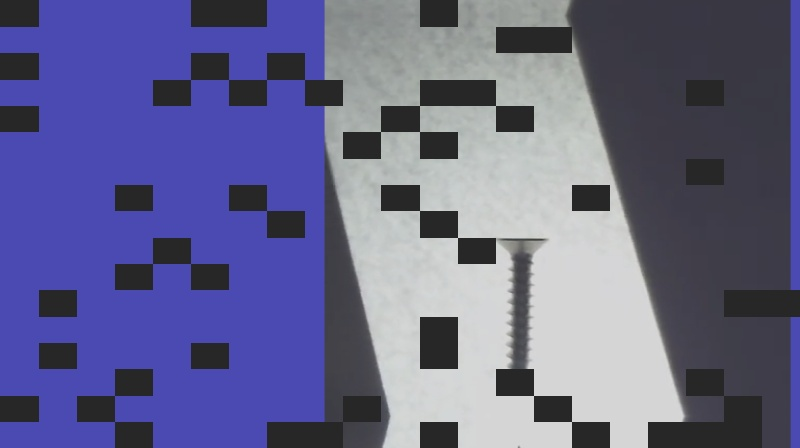S001: (491, 231, 551, 387)
